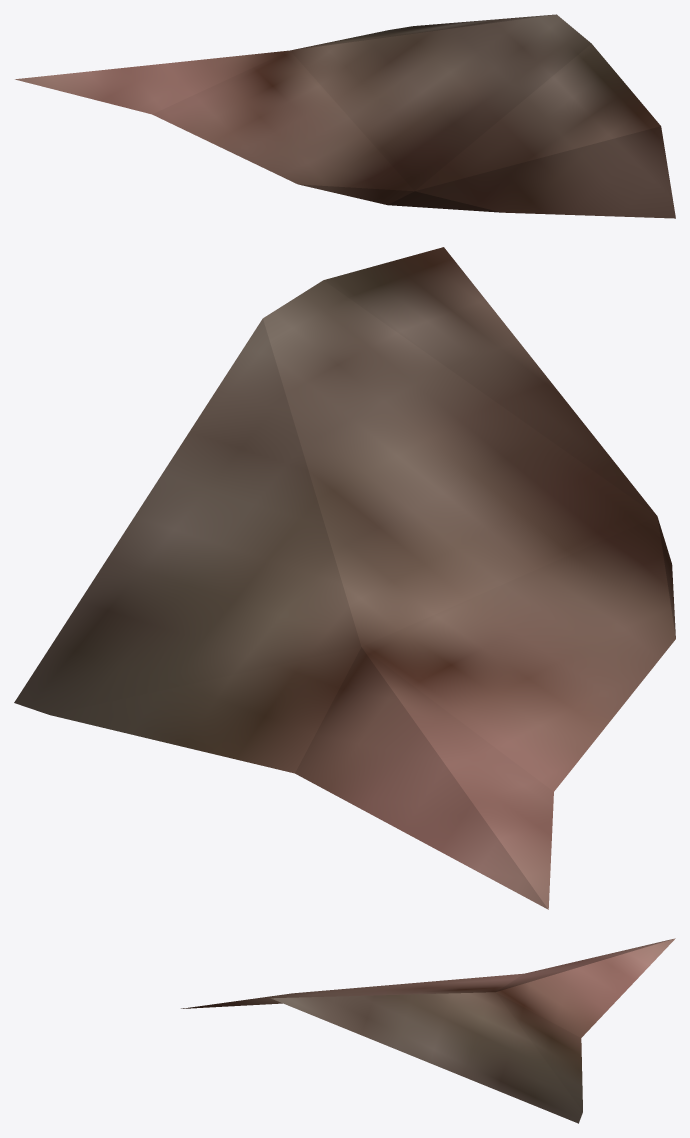
3 views of the same model, one above another, from view 1: azimuth 30°, elevation 25°; view 2: azimuth 150°, elevation 25°; view 3: azimuth 270°, elevation 25° (orthographic). The views are drawn at different scales.
Bounding box in the file's own units: 0.1524 × 0.0481 × 0.2299.
1 material, 1 textured.
